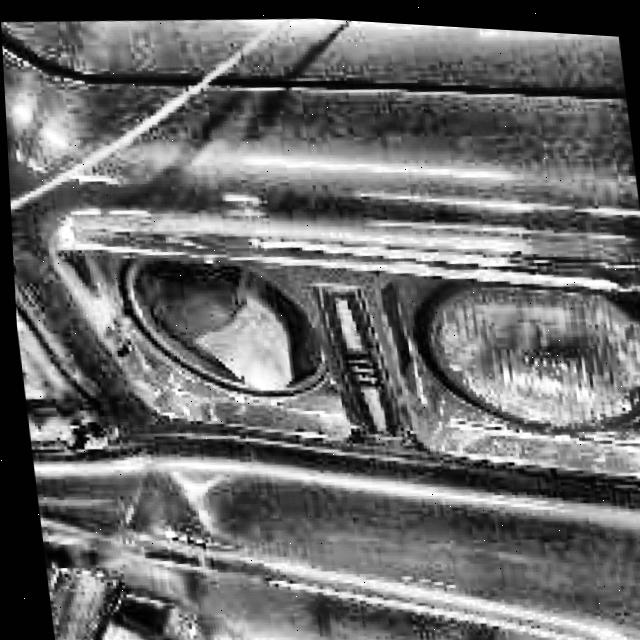head_lamp: (55, 185, 640, 515)
